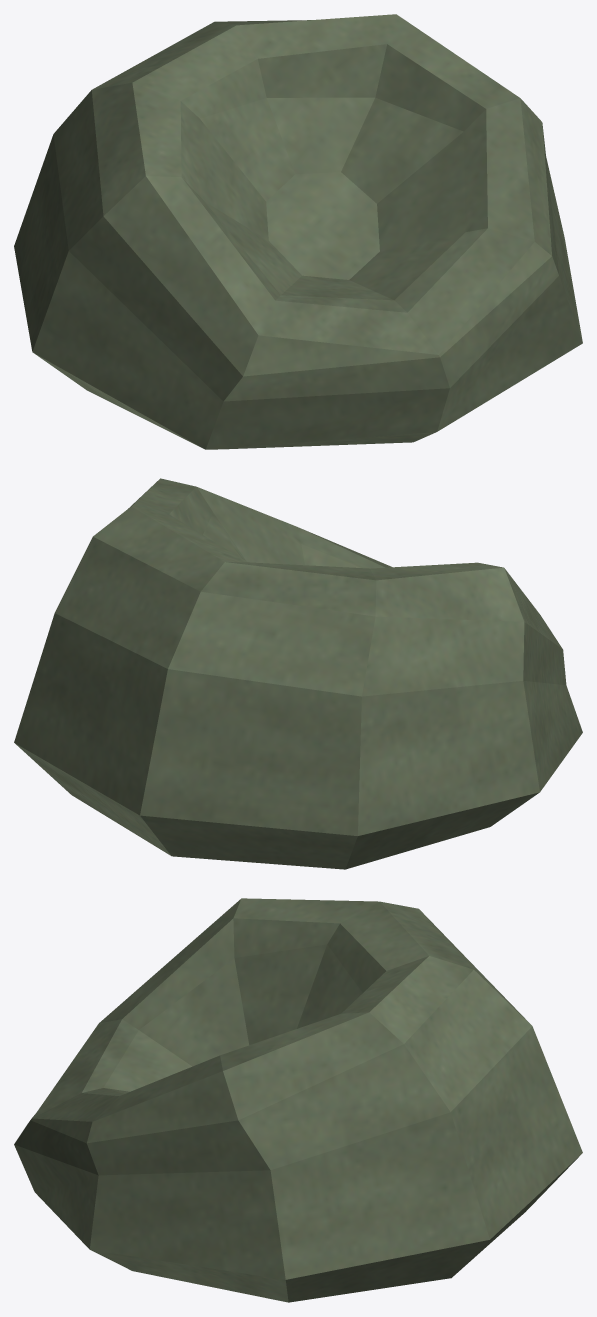
Rendered from beanbag_green.obj.
3 views of the same model, one above another, from view 1: azimuth 30°, elevation 25°; view 2: azimuth 150°, elevation 25°; view 3: azimuth 270°, elevation 25° (orthographic). The views are drawn at different scales.
Visible parts, largest first — view 1: beanbag_green; view 2: beanbag_green; view 3: beanbag_green.
Boxes of the visible parts, x1,y1,x2,y2 form: beanbag_green: [14, 14, 582, 449]; beanbag_green: [14, 478, 582, 869]; beanbag_green: [14, 898, 582, 1302].
Size of the model in its own units: 1.69 by 0.8727 by 1.69.
